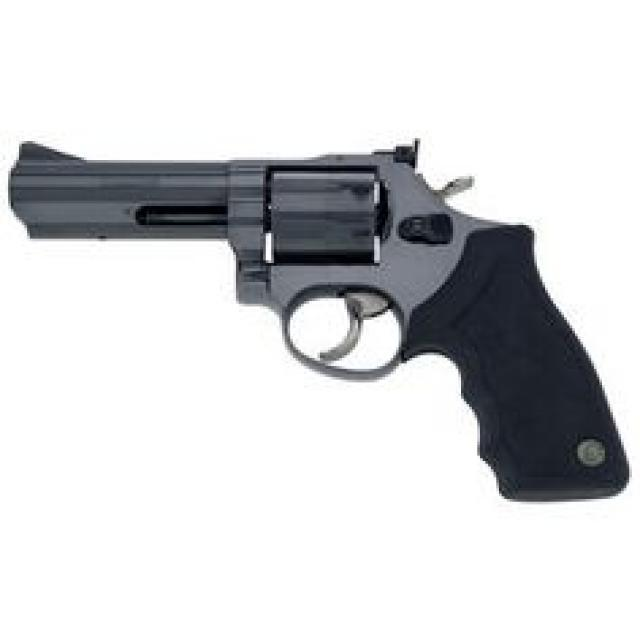revolver: (2, 110, 640, 504)
